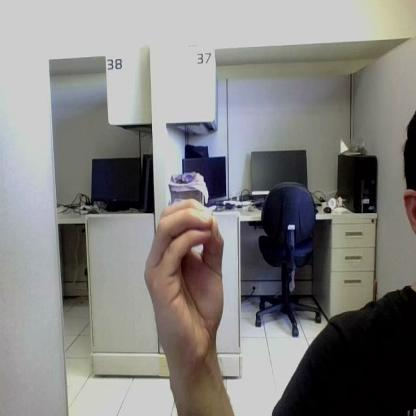O: (145, 201, 224, 367)
